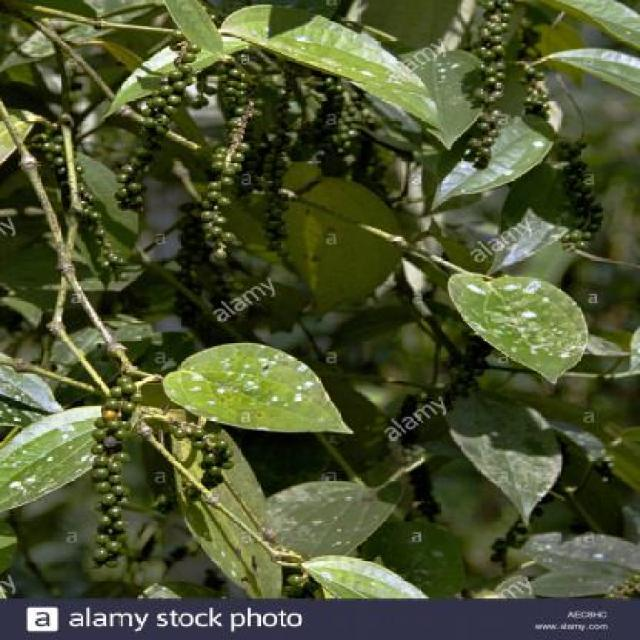UNRIPE: (39, 99, 128, 290), (203, 48, 265, 249), (126, 51, 188, 243), (96, 380, 147, 589), (157, 412, 245, 497), (512, 2, 565, 125), (554, 148, 614, 251), (469, 3, 505, 163)
